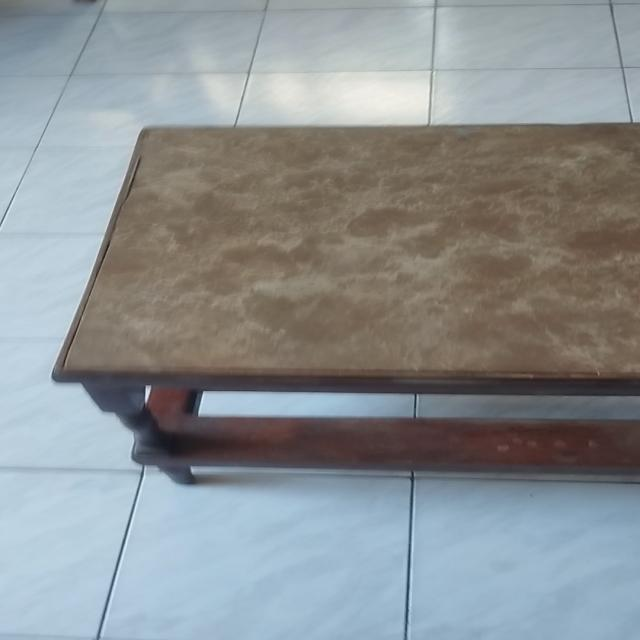table: (44, 116, 640, 494)
